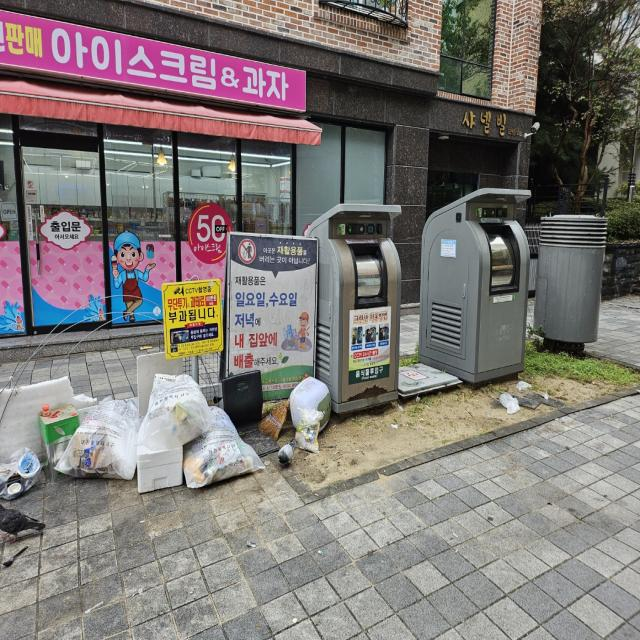CleanNet: (421, 185, 530, 383), (302, 201, 402, 414)
General Waste: (2, 356, 331, 492)
